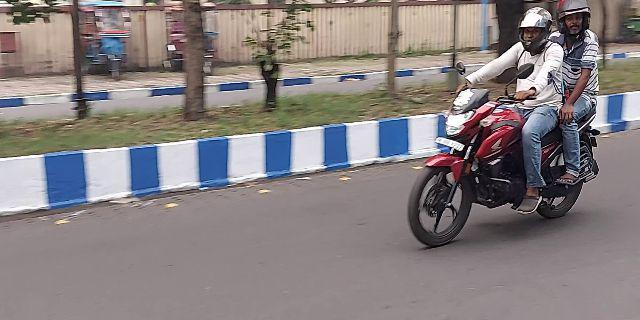Motorbike: (402, 6, 601, 248)
Rickshaw: (77, 4, 139, 79)
